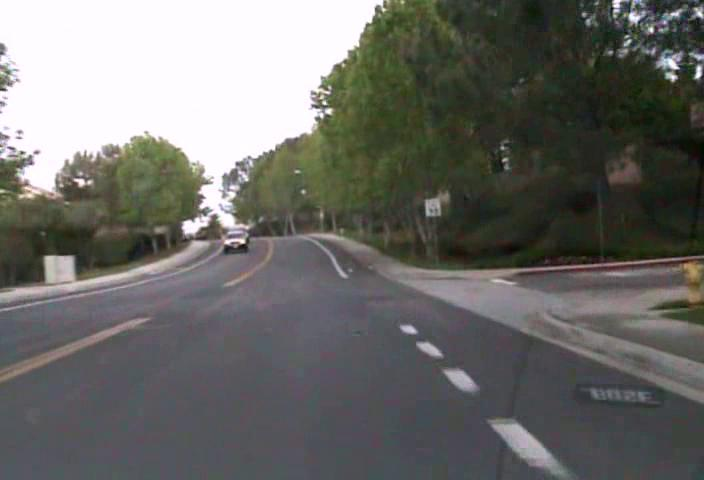speedLimitUrdbl: (424, 196, 442, 218)
